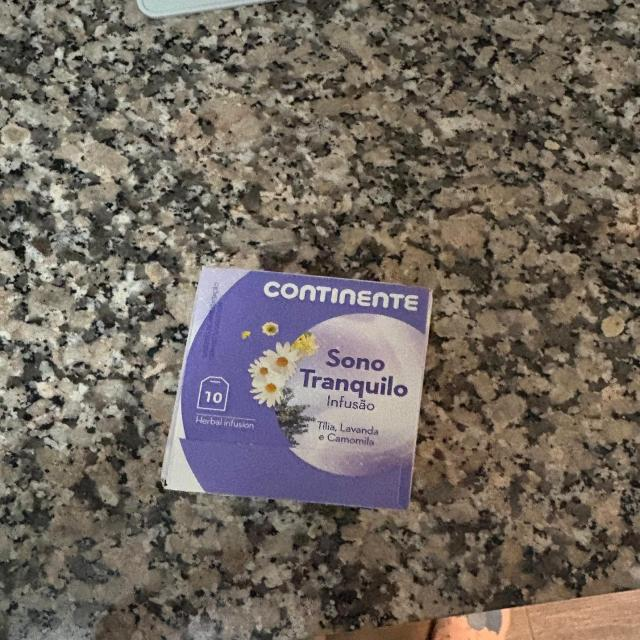good_package: (160, 262, 434, 514)
